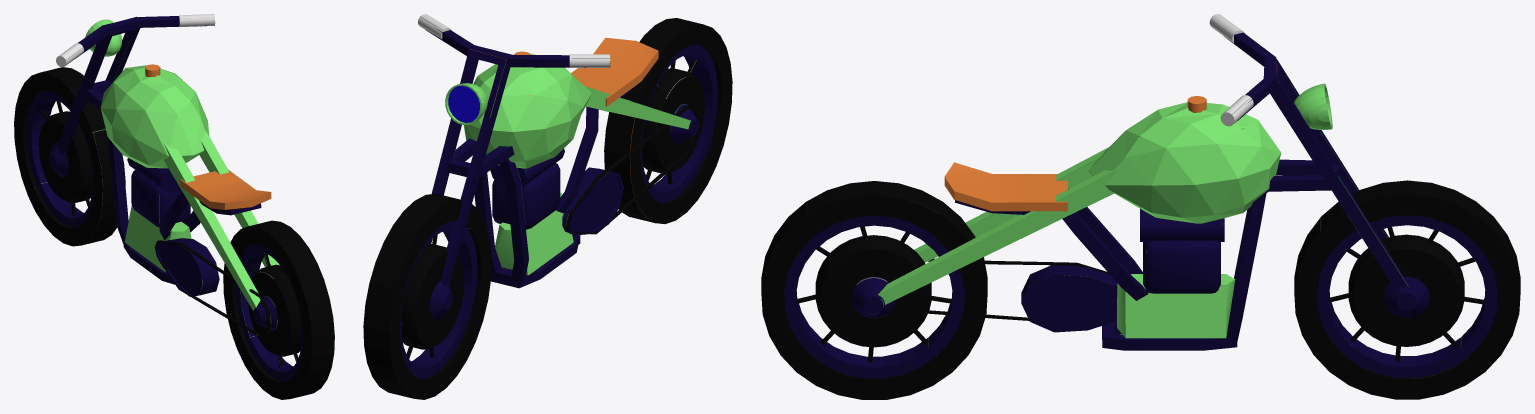
The picture shows the model from 3 angles, left to right: view 1: azimuth 30°, elevation 25°; view 2: azimuth 150°, elevation 25°; view 3: azimuth 270°, elevation 25°; orthographic projection. The views are drawn at different scales.
Visible parts, largest first — view 1: Motorcycle_1388; view 2: Motorcycle_1388; view 3: Motorcycle_1388.
Boxes of the visible parts, x1,y1,x2,y2 form: Motorcycle_1388: [14, 14, 334, 399]; Motorcycle_1388: [363, 14, 732, 399]; Motorcycle_1388: [761, 14, 1520, 399].
Size of the model in its own units: 5184 by 7800 by 16441.
